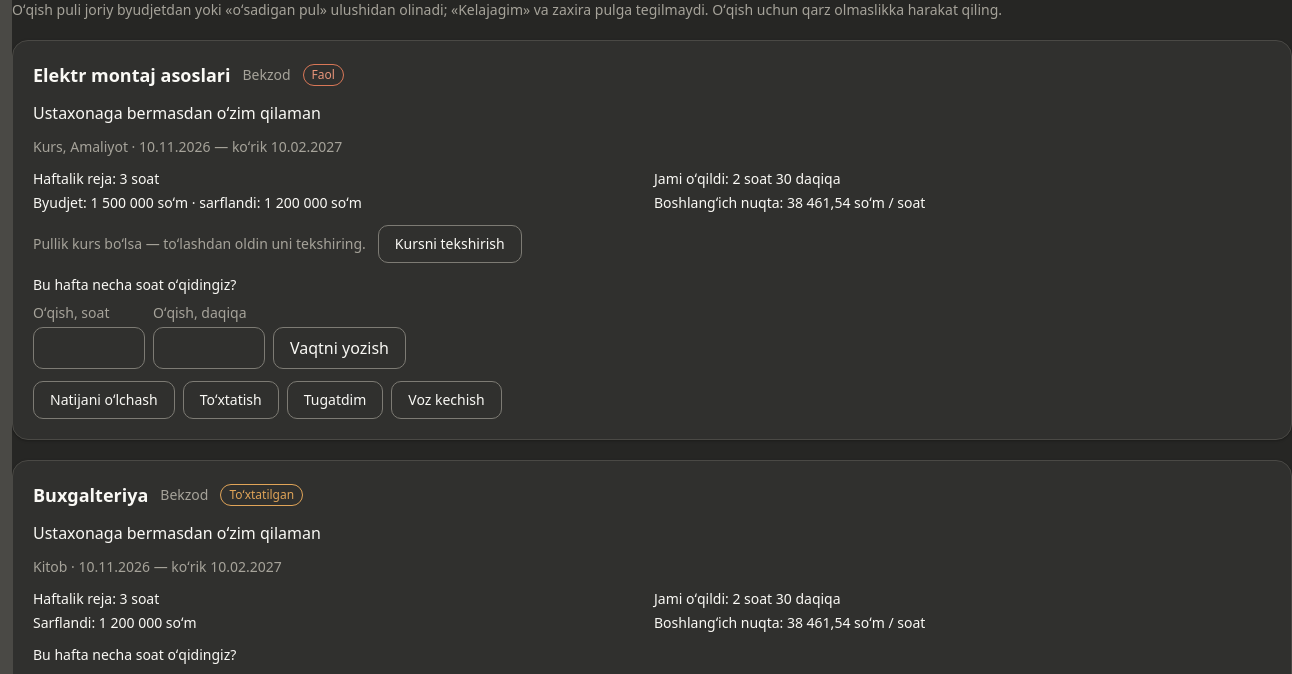
LearningScreen › natijani oʻlchash: farq va foiz yadrodan; yangi hisob yoʻq — tushunarli xabar; pasaysa — uyaltirmaydi
(page scrolled)
Click the button "Natijani oʻlchash" below "Elektr montaj asoslari" at {"x": 104, "y": 400}, box [33,381,175,419]
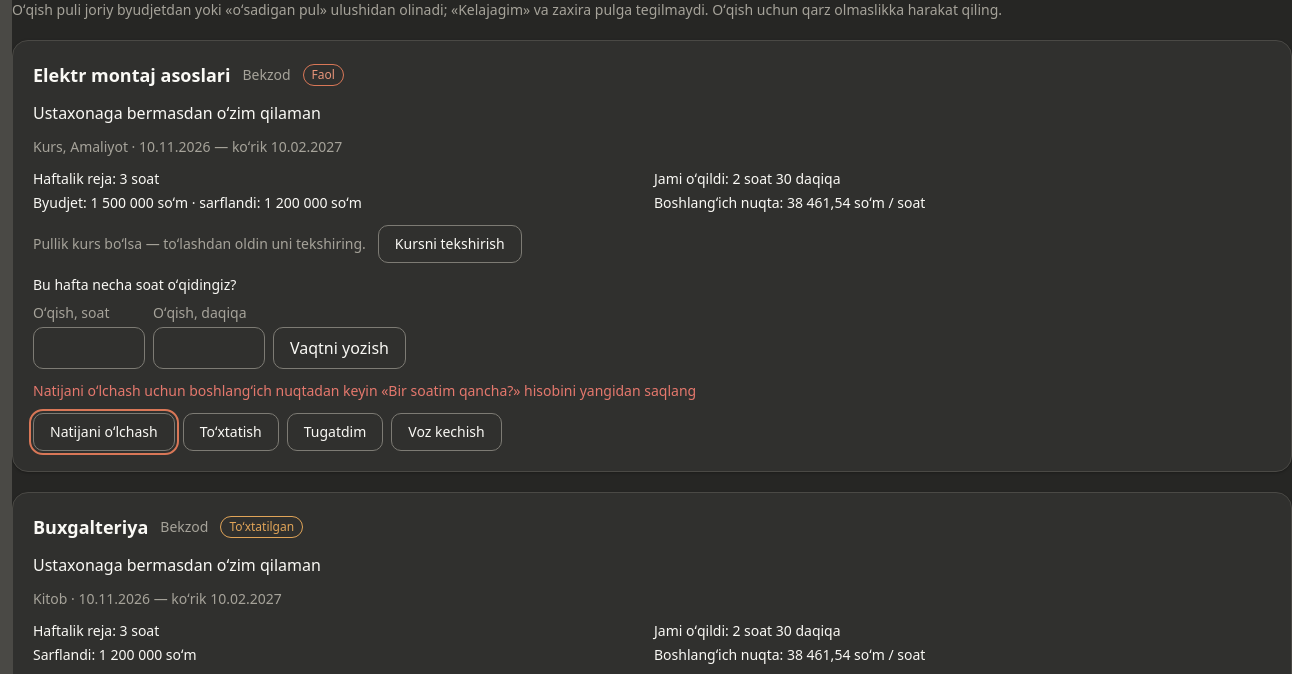
Expected: the message shows "boshlangʻich nuqtadan keyin «Bir soatim qancha?» hisobini yangidan saqlang", [33,381,696,400]
Click the 1st button "Natijani oʻlchash" at {"x": 104, "y": 432}, box [33,413,175,451]
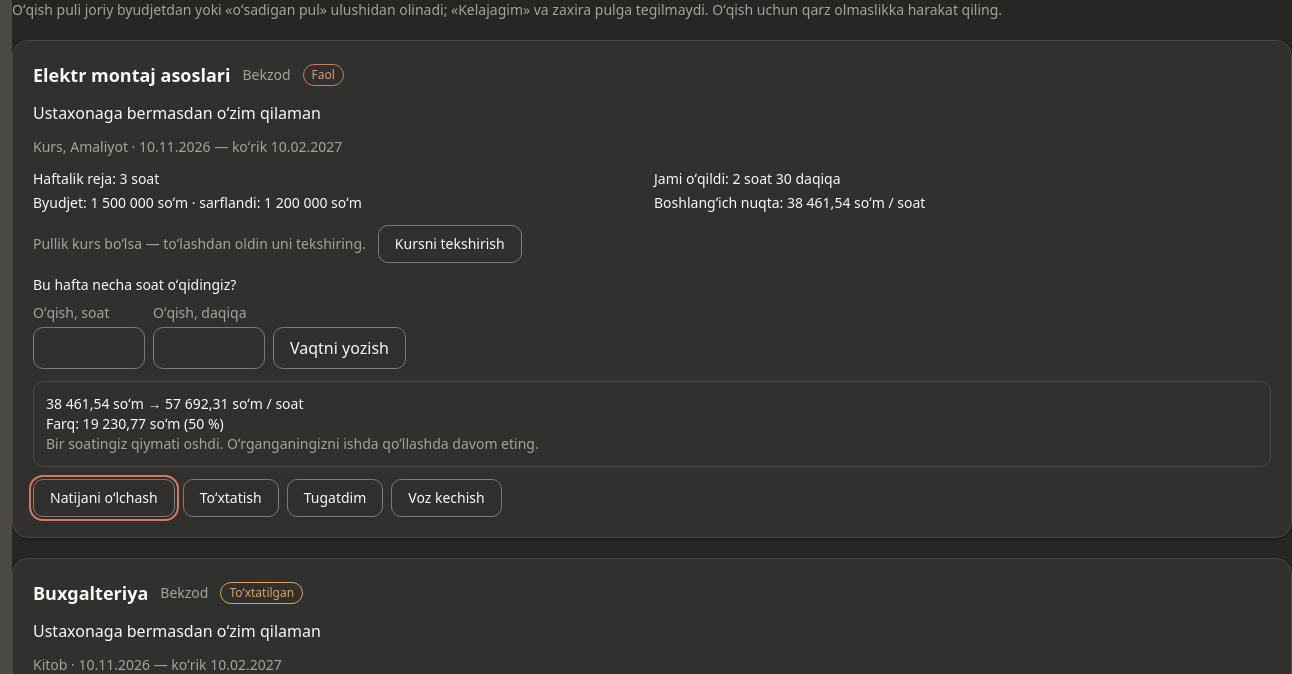
Expected: the message with test id "plan-result" shows "38 461,54 soʻm → 57 692,31 soʻm / soat", [46,394,304,413]
Expected: the message with test id "plan-result" shows "Farq: 19 230,77 soʻm (50 %)", [46,414,224,433]
Expected: the message with test id "plan-result" shows "Bir soatingiz qiymati oshdi", [46,434,539,453]
Click the button "Natijani oʻlchash" at {"x": 104, "y": 498}, box [33,479,175,517]
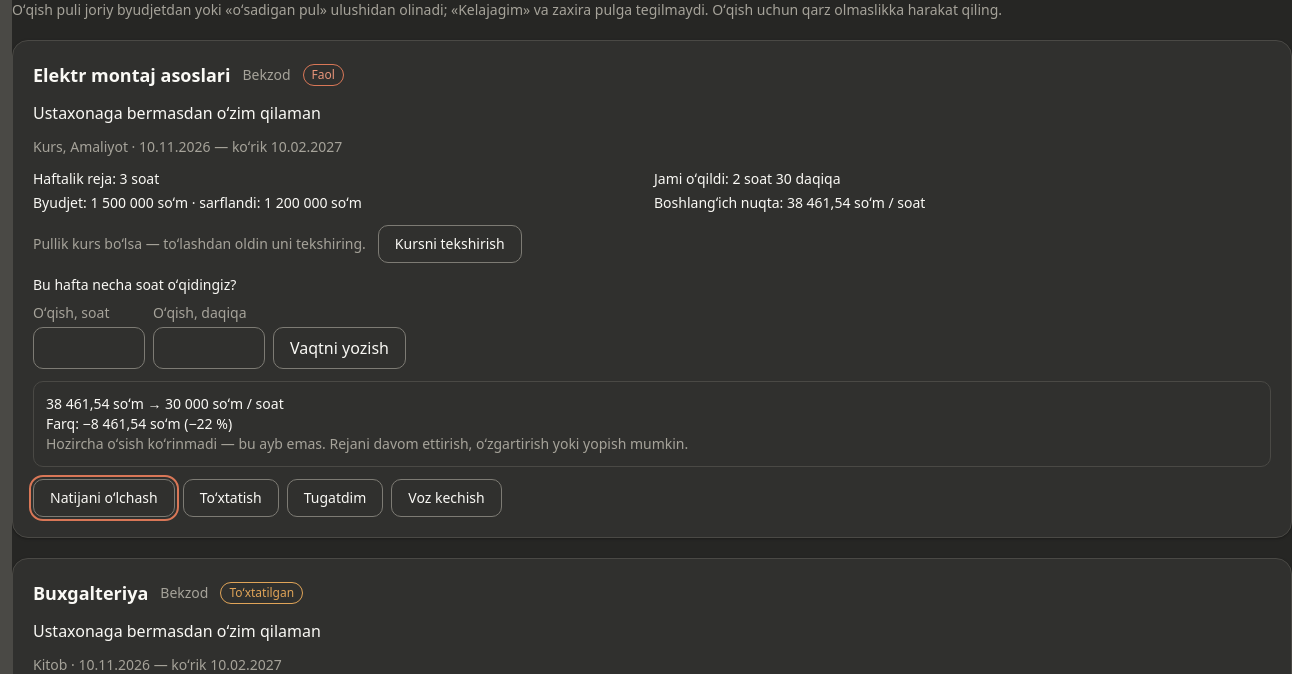
Expected: the text "bu ayb emas" is shown, [46,434,688,453]
